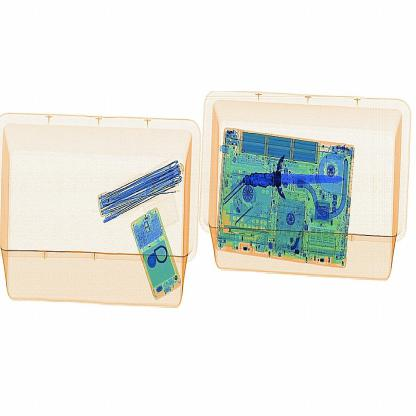wrench: (246, 150, 355, 204)
